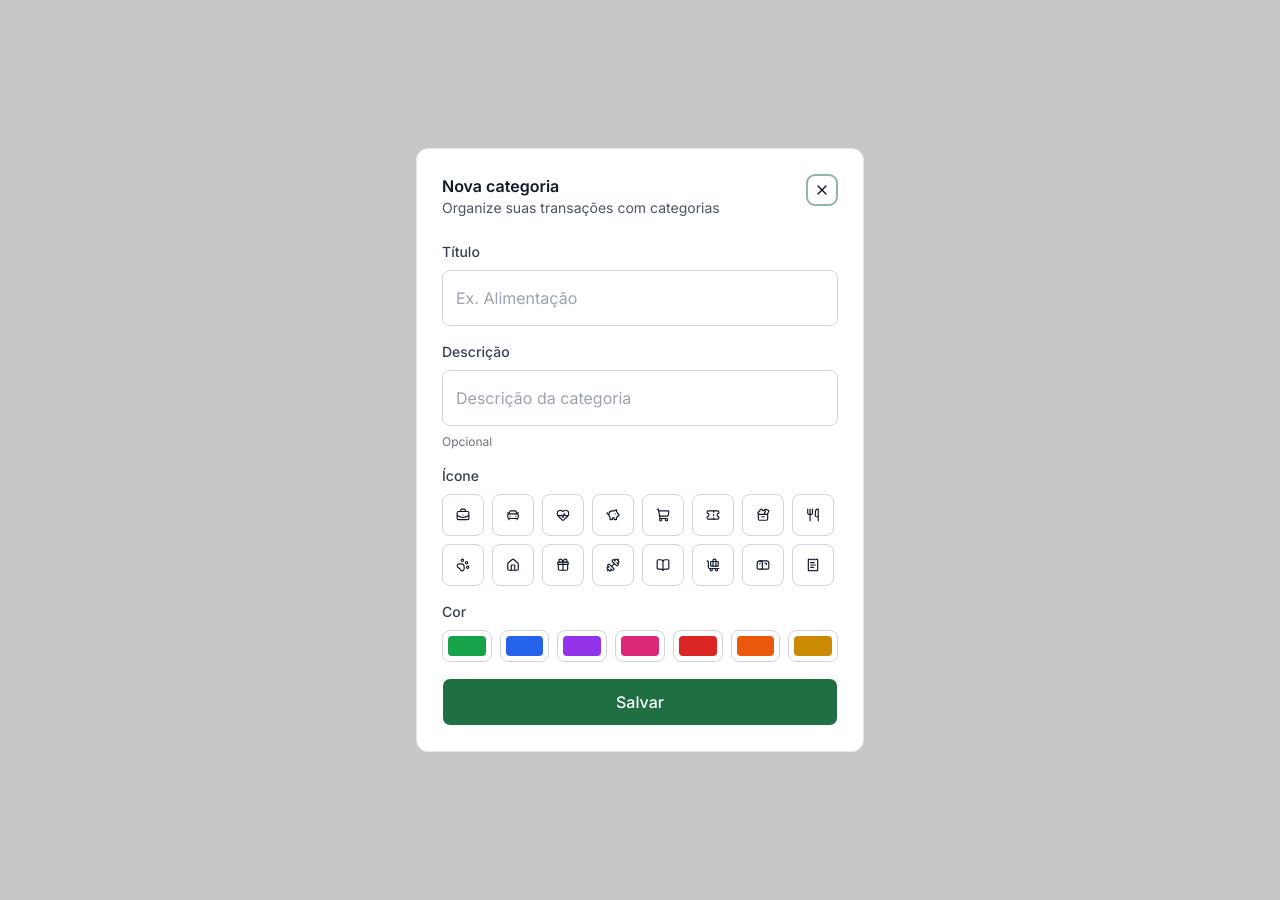
Test case: CategoryDialog › exibe erro de validacao ao salvar sem titulo
The width and height of the screenshot is (1280, 900).
Click the button "Salvar" at (640, 702), box x1=442 y1=678 x2=838 y2=726
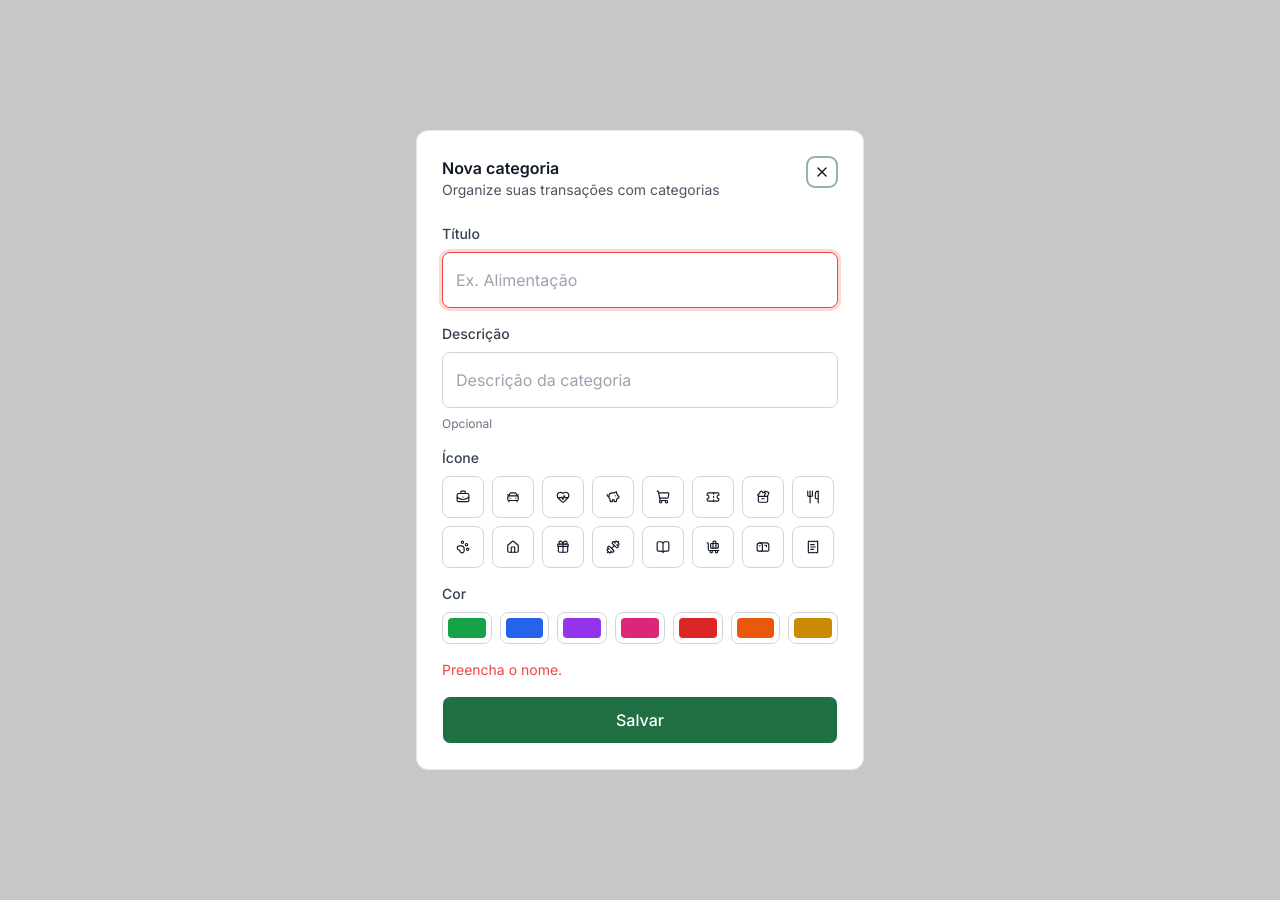
Now the message reads "Preencha o nome.", box x1=442 y1=661 x2=562 y2=678
